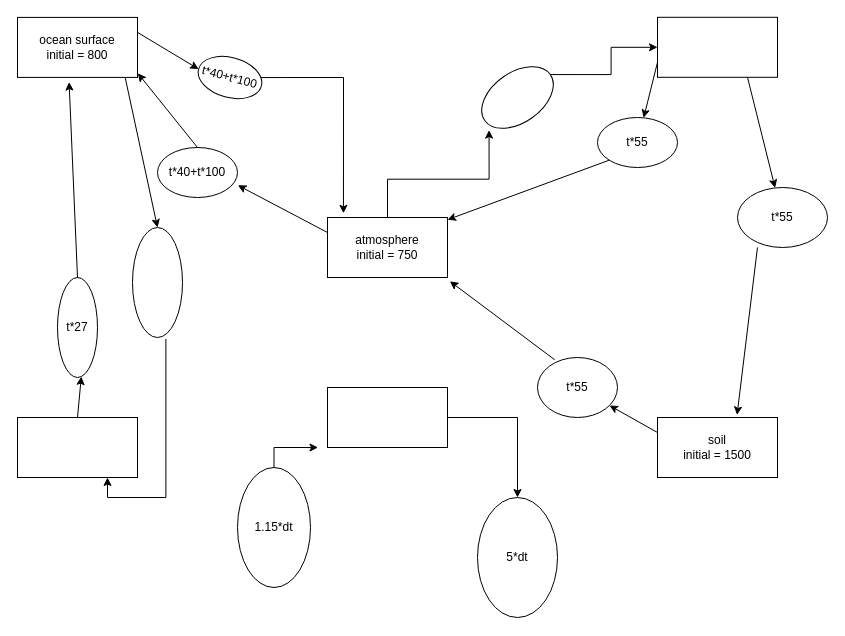
Some shapes in this 845 by 636 pixel diagram are drawn without their labels. Each missing label, with the box of its shape:
deep ocean initial = 38000: (16, 416, 138, 478)
Fossil fuel 4000: (326, 386, 448, 448)
t*110: (469, 53, 565, 141)
t*4+t*23: (132, 226, 182, 338)
terrestrial biosphere initial = 600: (656, 16, 778, 77)
